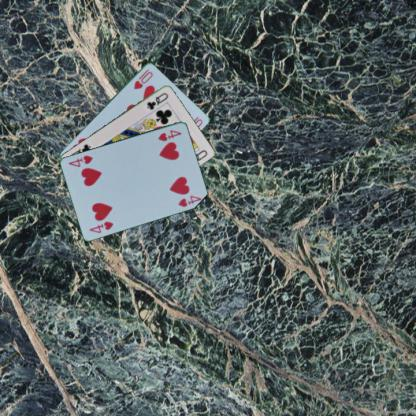10h: (131, 66, 154, 90)
4h: (87, 218, 115, 234), (156, 127, 182, 142)
Qc: (144, 89, 170, 111)
